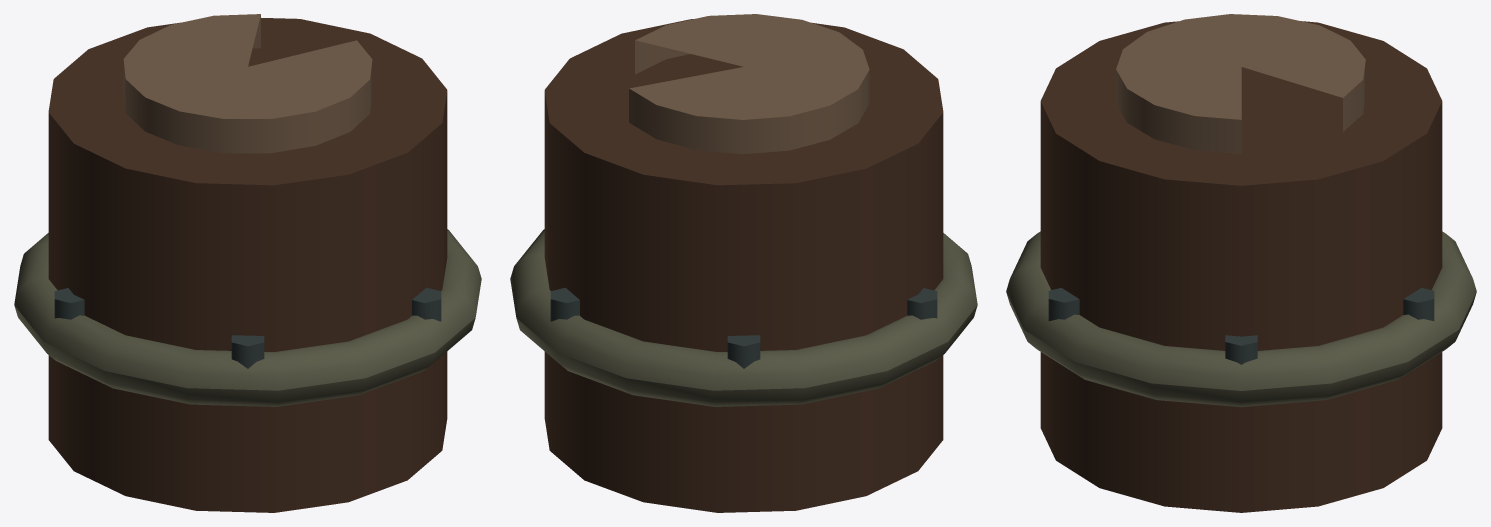
The model's file is quarantine_coat.obj.
The picture shows the model from 3 angles, left to right: view 1: azimuth 30°, elevation 25°; view 2: azimuth 150°, elevation 25°; view 3: azimuth 270°, elevation 25°; orthographic projection.
Visible parts, largest first — view 1: quarantine_coat; view 2: quarantine_coat; view 3: quarantine_coat.
Boxes of the visible parts, <box> form: quarantine_coat: <box>14,14,481,512</box>; quarantine_coat: <box>510,14,977,512</box>; quarantine_coat: <box>1006,14,1476,512</box>.
Bounding box in the file's own units: 1.5 × 1.27 × 1.5.
